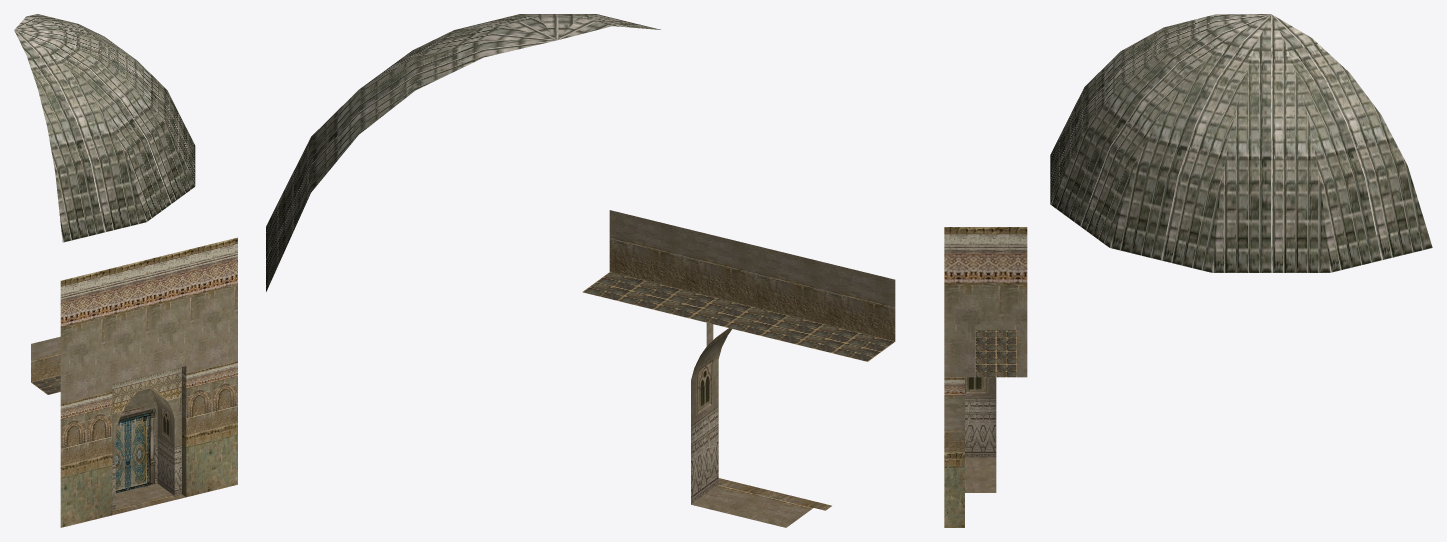
File: M7Z2_WallSection2B.glb
The picture shows the model from 3 angles, left to right: view 1: azimuth 30°, elevation 25°; view 2: azimuth 150°, elevation 25°; view 3: azimuth 270°, elevation 25°; orthographic projection. The views are drawn at different scales.
Parts seen in each view (by area): view 1: M7Z2_WALLSECTION2B; view 2: M7Z2_WALLSECTION2B; view 3: M7Z2_WALLSECTION2B.
Boxes of the visible parts, bbox=[...] form: M7Z2_WALLSECTION2B: bbox=[14, 14, 237, 527]; M7Z2_WALLSECTION2B: bbox=[266, 14, 895, 527]; M7Z2_WALLSECTION2B: bbox=[944, 14, 1432, 527].
Bounding box in the file's own units: 16.56 × 24.48 × 23.52.
Materials: 7 (7 with a texture image).
